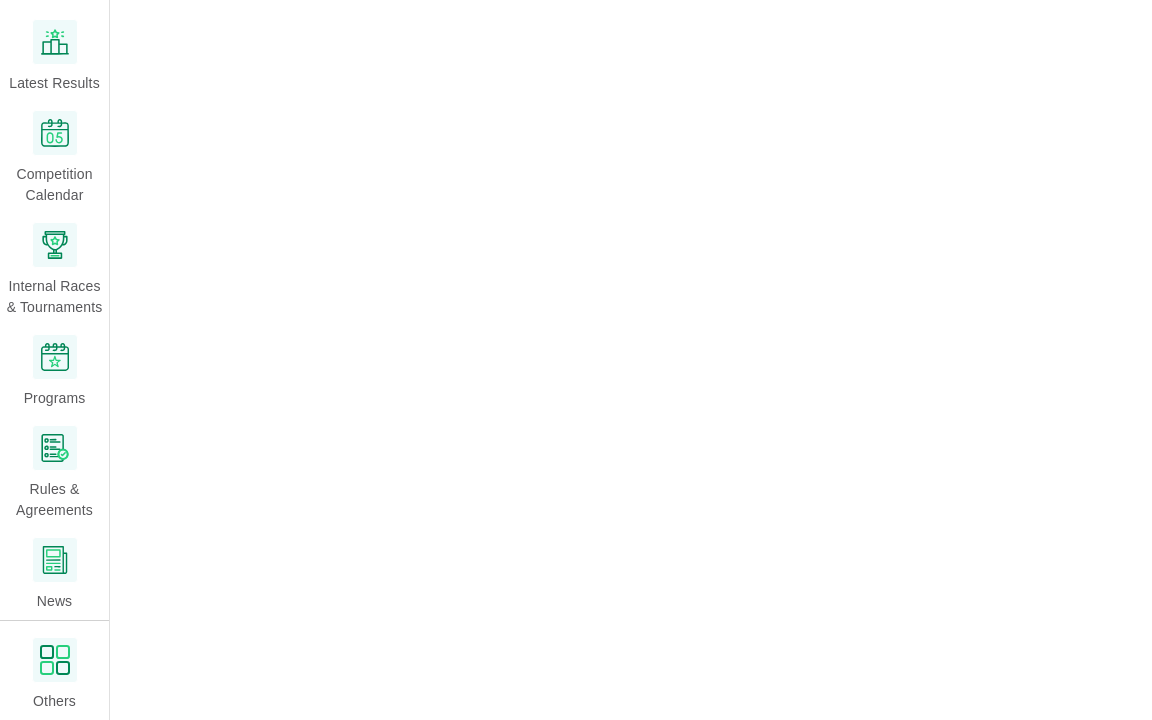
it: Sidebar › opens the dialog when Others is clicked
The image size is (1152, 720).
(page scrolled)
Click the text "Others". click: (54, 702)
box: x1=33 y1=691 x2=76 y2=712
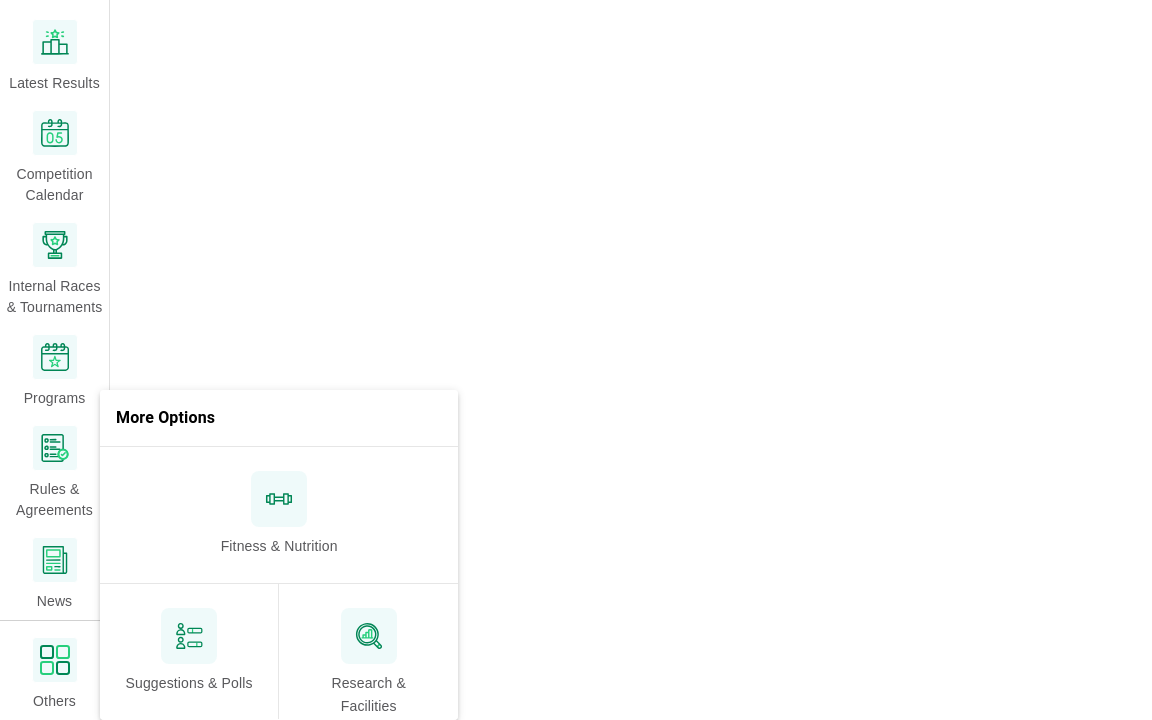
Result: the text "More Options" is shown at x1=100 y1=390 x2=458 y2=447
